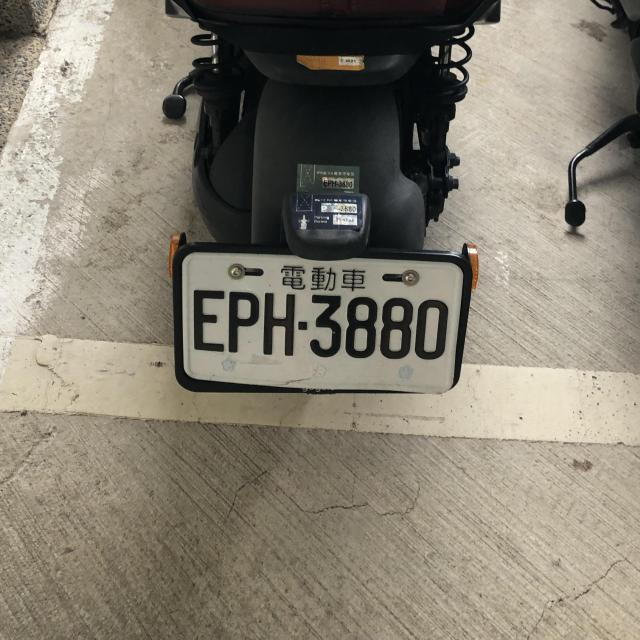W: (177, 245, 465, 394)
